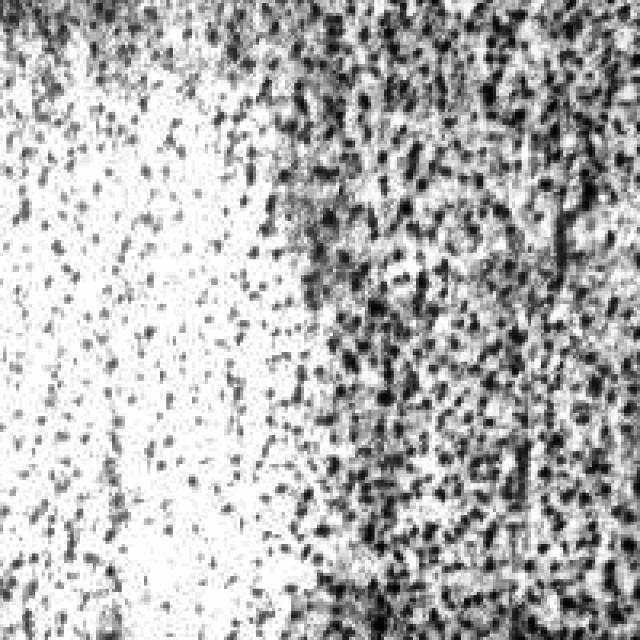Rolled_in_Scale: (288, 0, 637, 634), (0, 0, 320, 230)
